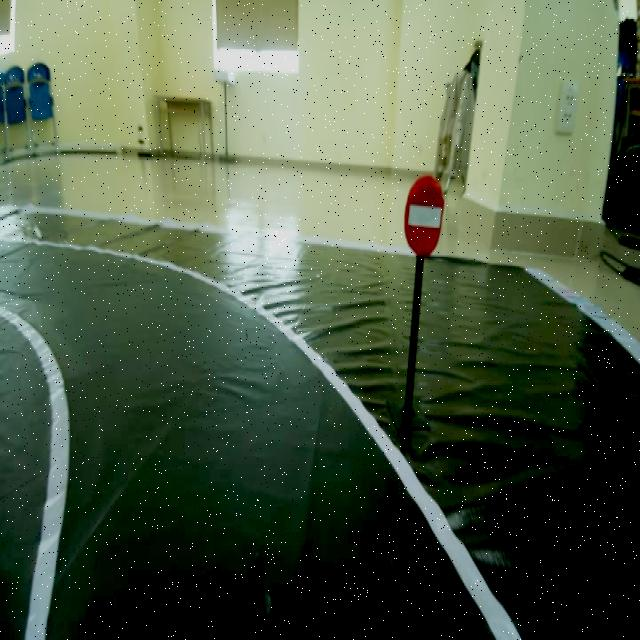no_entry: (399, 165, 446, 252)
